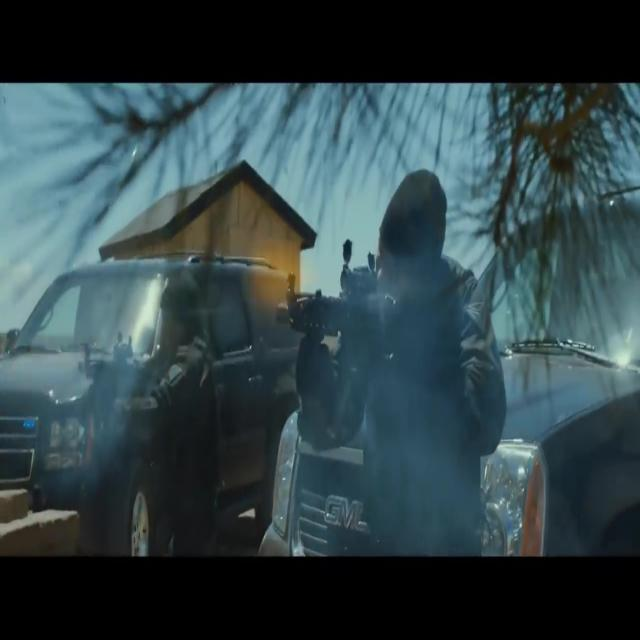Weapon: (73, 302, 206, 532), (264, 218, 428, 396)
